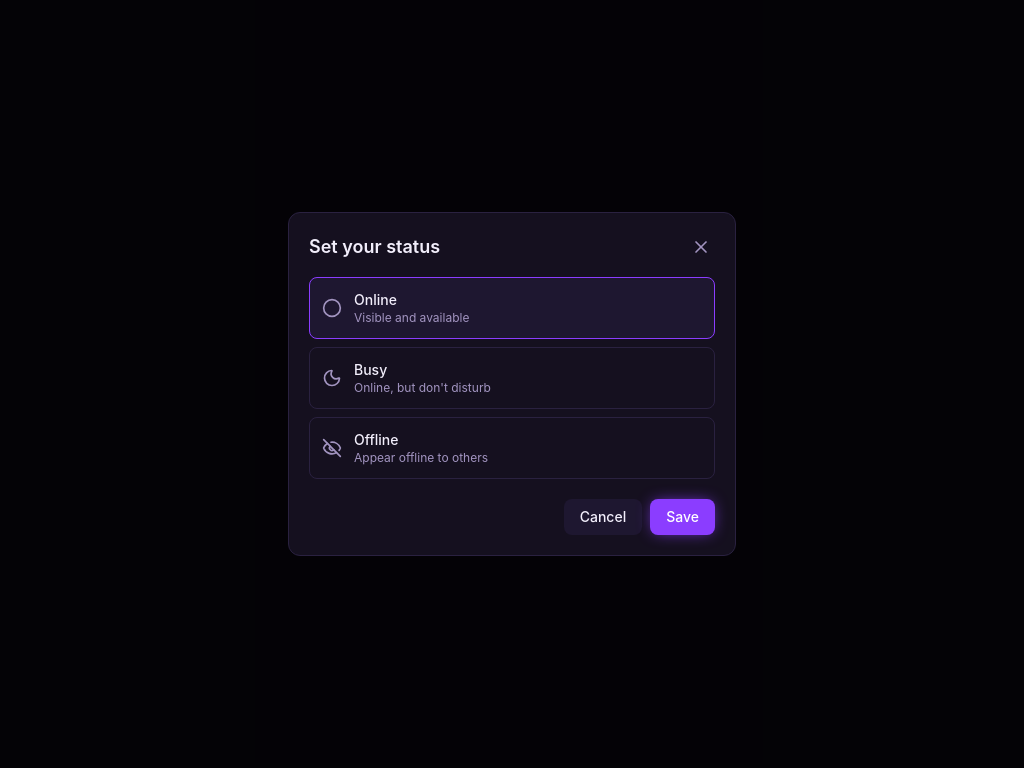
Test: StatusModal › falls back to a generic error message for non-API errors
Click the button "Save". click: (683, 517)
box: [650,499,715,535]
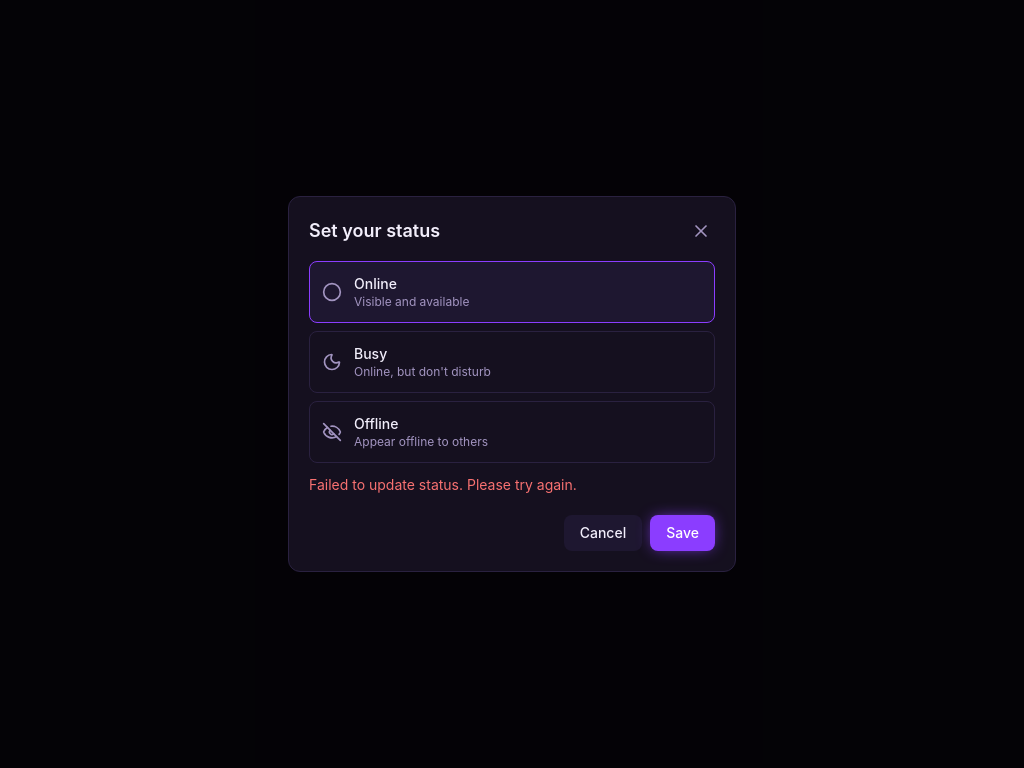
Expected: the text "Failed to update status. Please try again." is shown, [309,476,577,493]
